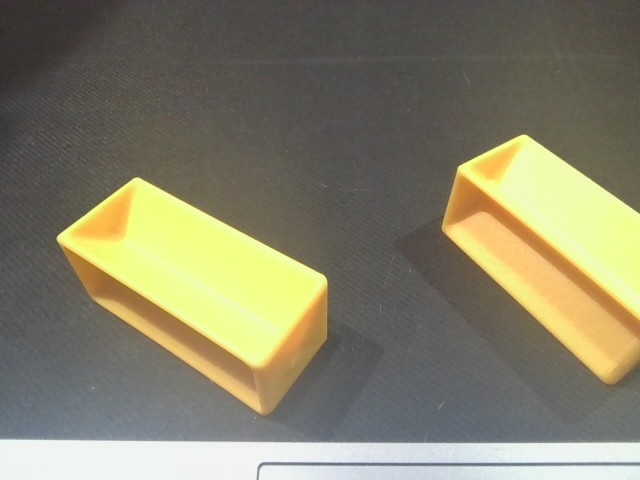YellowSample: (51, 173, 333, 420), (437, 131, 640, 388)
